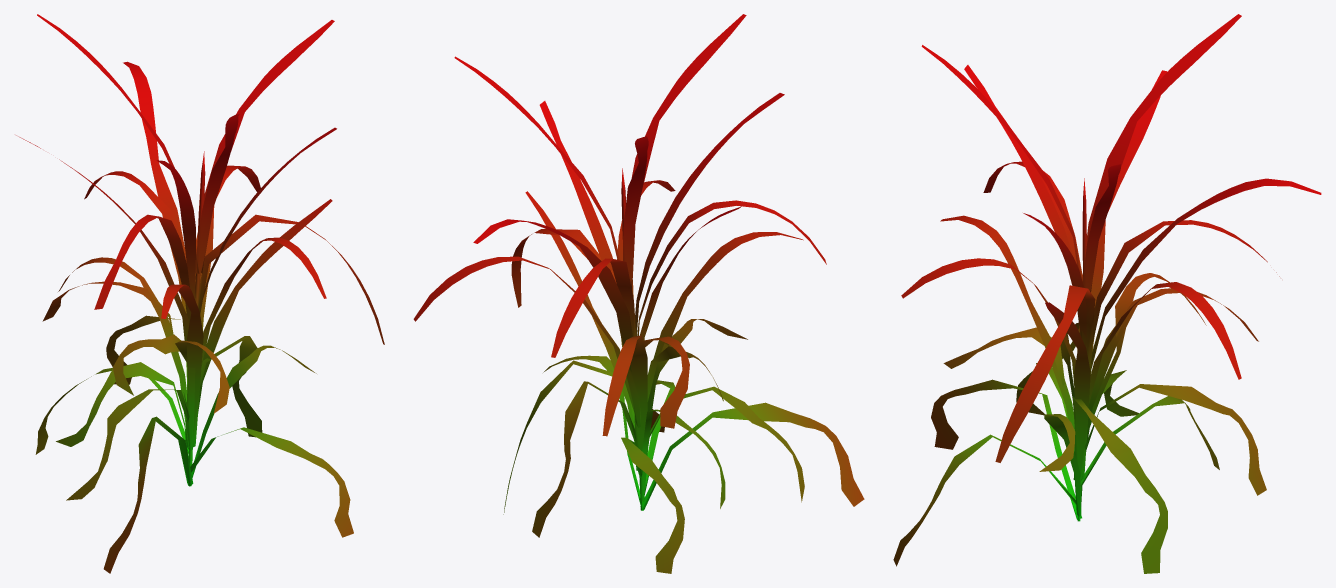
Rendered from tkbidaxia_Var2_LOD0.fbx.
The picture shows the model from 3 angles, left to right: view 1: azimuth 30°, elevation 25°; view 2: azimuth 150°, elevation 25°; view 3: azimuth 270°, elevation 25°; orthographic projection. The views are drawn at different scales.
Visible parts, largest first — view 1: _2eff_Var2_LOD0; view 2: _2eff_Var2_LOD0; view 3: _2eff_Var2_LOD0.
Part boxes in pixels (x1=…): _2eff_Var2_LOD0: x1=16, y1=14, x2=384, y2=573; _2eff_Var2_LOD0: x1=413, y1=14, x2=864, y2=573; _2eff_Var2_LOD0: x1=893, y1=14, x2=1321, y2=573.
Size of the model in its own units: 34.52 by 46.78 by 38.55.
